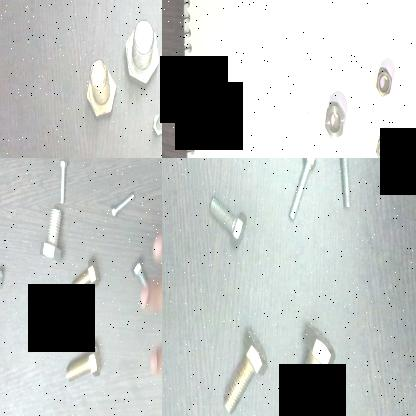Bolts: (282, 319, 338, 416), (214, 330, 269, 412), (206, 187, 252, 255), (283, 158, 325, 228), (82, 53, 119, 123), (64, 334, 104, 388), (327, 158, 359, 222), (39, 207, 65, 270), (70, 253, 100, 298), (110, 190, 136, 224), (128, 250, 146, 292), (56, 158, 68, 207), (149, 102, 162, 142)
NUTS: (322, 98, 346, 140), (373, 64, 395, 100), (377, 132, 392, 158)
